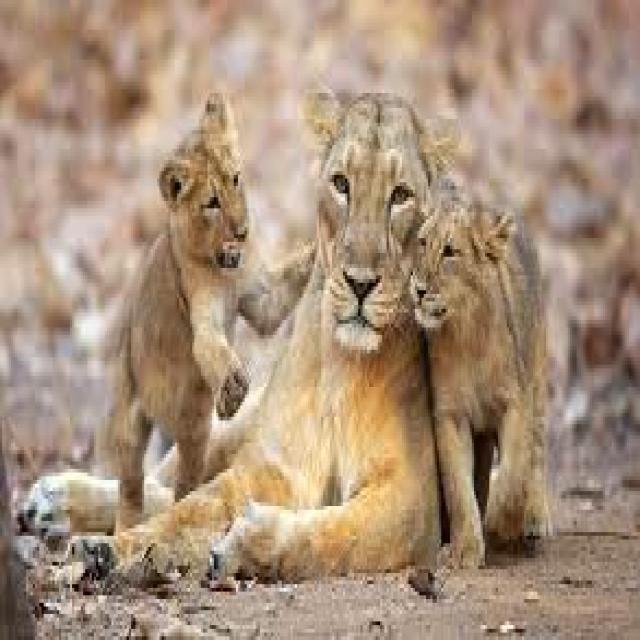lion: (118, 89, 454, 577), (107, 93, 308, 525), (411, 182, 550, 562)
